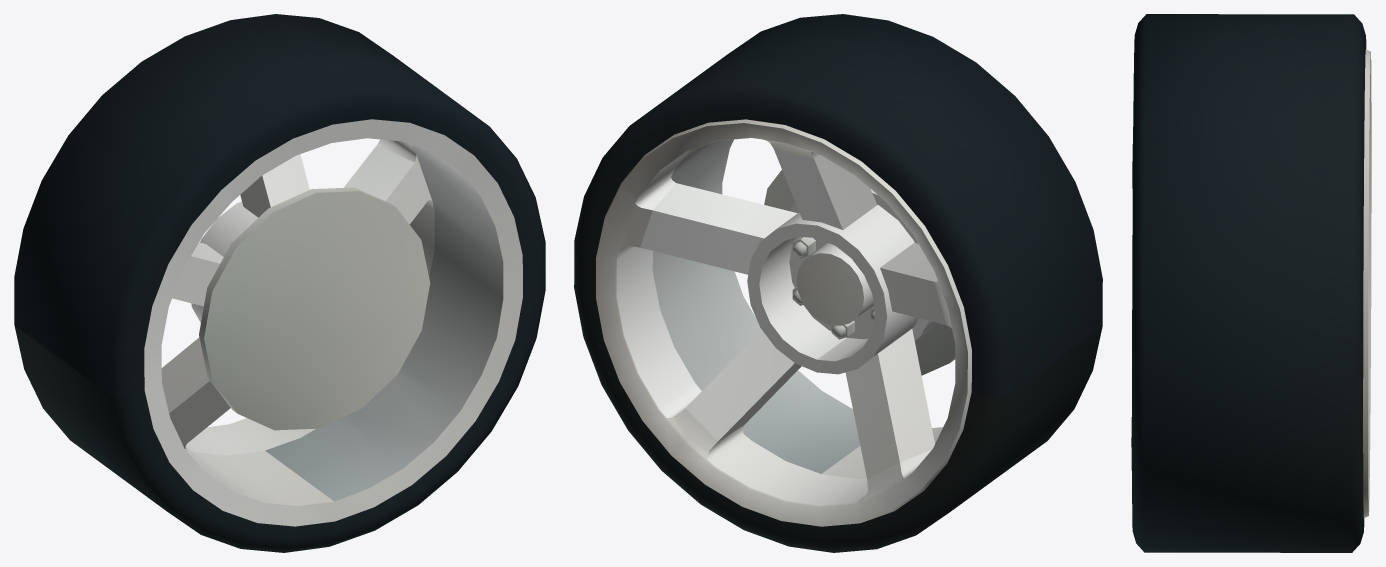
The model's file is LlantaIzqTras.obj.
3 views of the same model, side by side, from view 1: azimuth 30°, elevation 25°; view 2: azimuth 150°, elevation 25°; view 3: azimuth 270°, elevation 25° (orthographic). The views are drawn at different scales.
Parts seen in each view (by area): view 1: DrawCall_0182, DrawCall_0319; view 2: DrawCall_0182, DrawCall_0319, DrawCall_0314; view 3: DrawCall_0182, DrawCall_0314.
Part boxes in pixels (x1,y1,x2,y2): DrawCall_0182: (14, 14, 545, 552); DrawCall_0319: (144, 119, 522, 526); DrawCall_0182: (574, 14, 1102, 552); DrawCall_0319: (616, 139, 946, 505); DrawCall_0314: (596, 119, 971, 526); DrawCall_0182: (1131, 14, 1366, 552); DrawCall_0314: (1363, 49, 1371, 517).
Size of the model in its own units: 9.6 by 9.65 by 4.3.
